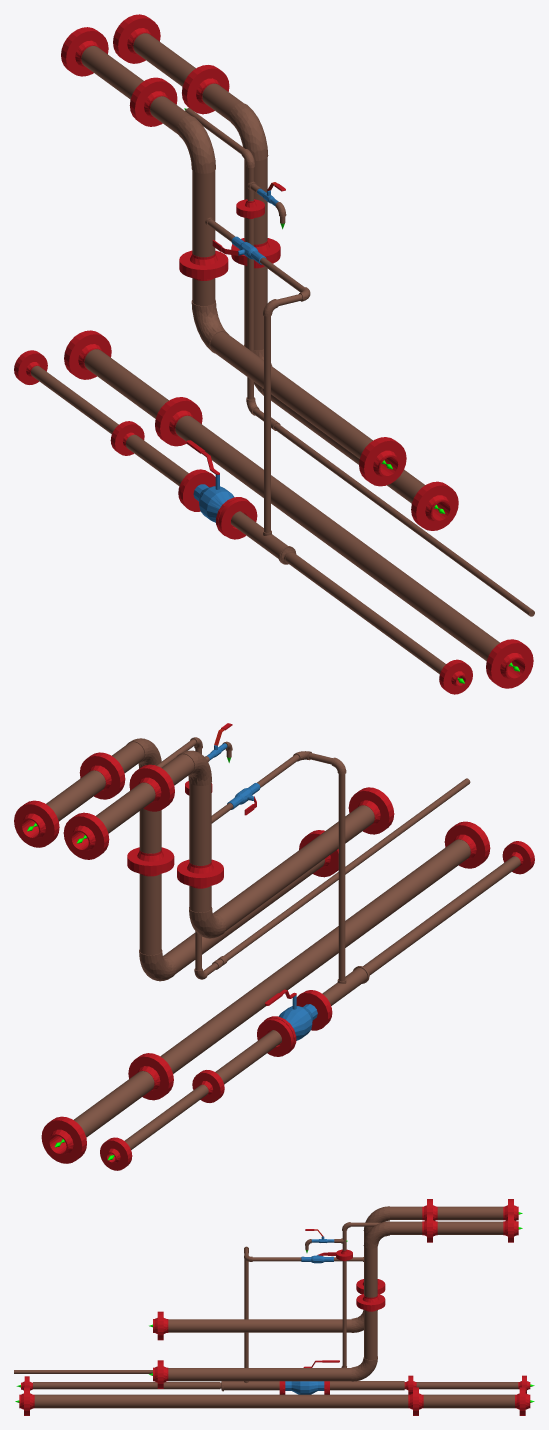
The model's file is Phase38b.fbx.
3 views of the same model, one above another, from view 1: azimuth 30°, elevation 25°; view 2: azimuth 150°, elevation 25°; view 3: azimuth 270°, elevation 25° (orthographic). The views are drawn at different scales.
Parts seen in each view (by area): view 1: Сталь нержавеющая Фланец (×12), Типы трубопроводов:Труба 108х4-12х18н10т:1346149 (×2), Типы трубопроводов:Труба 108х4-12х18н10т:1294321, RAL 8002 (×2), Типы трубопроводов:Труба 108х4-12х18н10т:1348704, Типы трубопроводов:Труба 108х4-12х18н10т:1355887, Типы трубопроводов:Труба 108х4-12х18н10т:1294008, bimlib_kransharovyydlyagaza_stal_seriya30925gs_dn15-500_poln, Типы трубопроводов:Труба 108х4-12х18н10т:1336257, Типы трубопроводов:Труба 108х4-12х18н10т:1351098, Типы трубопроводов:Труба 108х4-12х18н10т:1290410, Типы трубопроводов:Труба 108х4-12х18н10т:1293297 (+9 smaller); view 2: Сталь нержавеющая Фланец (×15), Типы трубопроводов:Труба 108х4-12х18н10т:1346149 (×2), Типы трубопроводов:Труба 108х4-12х18н10т:1294321, Типы трубопроводов:Труба 108х4-12х18н10т:1348704, Типы трубопроводов:Труба 108х4-12х18н10т:1355887, Типы трубопроводов:Труба 108х4-12х18н10т:1294008, Типы трубопроводов:Труба 108х4-12х18н10т:1293297, bimlib_kransharovyydlyagaza_stal_seriya30925gs_dn15-500_poln, Типы трубопроводов:Труба 108х4-12х18н10т:1336257, СтальСварка_Отвод_ГОСТ17375-2001:Исполнение 1_Неоцинкованные (×2), Типы трубопроводов:Труба 108х4-12х18н10т:1293420, Типы трубопроводов:Труба 108х4-12х18н10т:1290410 (+9 smaller); view 3: Типы трубопроводов:Труба 108х4-12х18н10т:1346149 (×2), Типы трубопроводов:Труба 108х4-12х18н10т:1293420, Типы трубопроводов:Труба 108х4-12х18н10т:1294321, Типы трубопроводов:Труба 108х4-12х18н10т:1348704, Типы трубопроводов:Труба 108х4-12х18н10т:1351098, Типы трубопроводов:Труба 108х4-12х18н10т:1290410, RAL 8002 (×2), Типы трубопроводов:Труба 108х4-12х18н10т:1336109, Типы трубопроводов:Труба 108х4-12х18н10т:1335797, Типы трубопроводов:Труба 108х4-12х18н10т:1291424, Типы трубопроводов:Труба 108х4-12х18н10т:1293297, Типы трубопроводов:Труба 108х4-12х18н10т:1355887 (+9 smaller).
Part boxes in pixels (x1=…): Сталь нержавеющая Фланец (×12): x1=63, y1=16, x2=533, y2=694; Типы трубопроводов:Труба 108х4-12х18н10т:1346149 (×2): x1=84, y1=349, x2=499, y2=660; Типы трубопроводов:Труба 108х4-12х18н10т:1294321: x1=210, y1=332, x2=372, y2=458; RAL 8002 (×2): x1=177, y1=103, x2=268, y2=173; Типы трубопроводов:Труба 108х4-12х18н10т:1348704: x1=285, y1=552, x2=445, y2=674; Типы трубопроводов:Труба 108х4-12х18н10т:1355887: x1=274, y1=423, x2=534, y2=616; Типы трубопроводов:Труба 108х4-12х18н10т:1294008: x1=192, y1=170, x2=215, y2=257; bimlib_kransharovyydlyagaza_stal_seriya30925gs_dn15-500_poln: x1=181, y1=471, x2=249, y2=535; Типы трубопроводов:Труба 108х4-12х18н10т:1336257: x1=264, y1=316, x2=270, y2=532; Типы трубопроводов:Труба 108х4-12х18н10т:1351098: x1=81, y1=46, x2=143, y2=99; Типы трубопроводов:Труба 108х4-12х18н10т:1290410: x1=133, y1=33, x2=195, y2=86; Типы трубопроводов:Труба 108х4-12х18н10т:1293297: x1=244, y1=265, x2=267, y2=350; Сталь нержавеющая Фланец (×15): x1=14, y1=754, x2=532, y2=1170; Типы трубопроводов:Труба 108х4-12х18н10т:1346149 (×2): x1=74, y1=839, x2=470, y2=1137; Типы трубопроводов:Труба 108х4-12х18н10т:1294321: x1=212, y1=805, x2=374, y2=931; Типы трубопроводов:Труба 108х4-12х18н10т:1348704: x1=363, y1=856, x2=520, y2=975; Типы трубопроводов:Труба 108х4-12х18н10т:1355887: x1=224, y1=778, x2=470, y2=960; Типы трубопроводов:Труба 108х4-12х18н10т:1294008: x1=189, y1=783, x2=211, y2=865; Типы трубопроводов:Труба 108х4-12х18н10т:1293297: x1=139, y1=873, x2=161, y2=955; bimlib_kransharovyydlyagaza_stal_seriya30925gs_dn15-500_poln: x1=264, y1=991, x2=329, y2=1053; Типы трубопроводов:Труба 108х4-12х18н10т:1336257: x1=338, y1=774, x2=345, y2=981; СтальСварка_Отвод_ГОСТ17375-2001:Исполнение 1_Неоцинкованные (×2): x1=139, y1=907, x2=225, y2=981; Типы трубопроводов:Труба 108х4-12х18н10т:1293420: x1=163, y1=859, x2=324, y2=974; Типы трубопроводов:Труба 108х4-12х18н10т:1290410: x1=46, y1=770, x2=105, y2=821; Типы трубопроводов:Труба 108х4-12х18н10т:1346149 (×2): x1=34, y1=1394, x2=514, y2=1408; Типы трубопроводов:Труба 108х4-12х18н10т:1293420: x1=168, y1=1368, x2=351, y2=1381; Типы трубопроводов:Труба 108х4-12х18н10т:1294321: x1=168, y1=1319, x2=351, y2=1332; Типы трубопроводов:Труба 108х4-12х18н10т:1348704: x1=33, y1=1382, x2=218, y2=1389; Типы трубопроводов:Труба 108х4-12х18н10т:1351098: x1=437, y1=1206, x2=503, y2=1220; Типы трубопроводов:Труба 108х4-12х18н10т:1290410: x1=437, y1=1221, x2=503, y2=1234; RAL 8002 (×2): x1=363, y1=1206, x2=389, y2=1248; Типы трубопроводов:Труба 108х4-12х18н10т:1336109: x1=416, y1=1382, x2=518, y2=1389; Типы трубопроводов:Труба 108х4-12х18н10т:1335797: x1=330, y1=1381, x2=404, y2=1390; Типы трубопроводов:Труба 108х4-12х18н10т:1291424: x1=364, y1=1247, x2=377, y2=1297; Типы трубопроводов:Труба 108х4-12х18н10т:1293297: x1=364, y1=1310, x2=377, y2=1359; Типы трубопроводов:Труба 108х4-12х18н10т:1355887: x1=14, y1=1370, x2=152, y2=1373.
Size of the model in its own units: 723 by 4149 by 1850.
